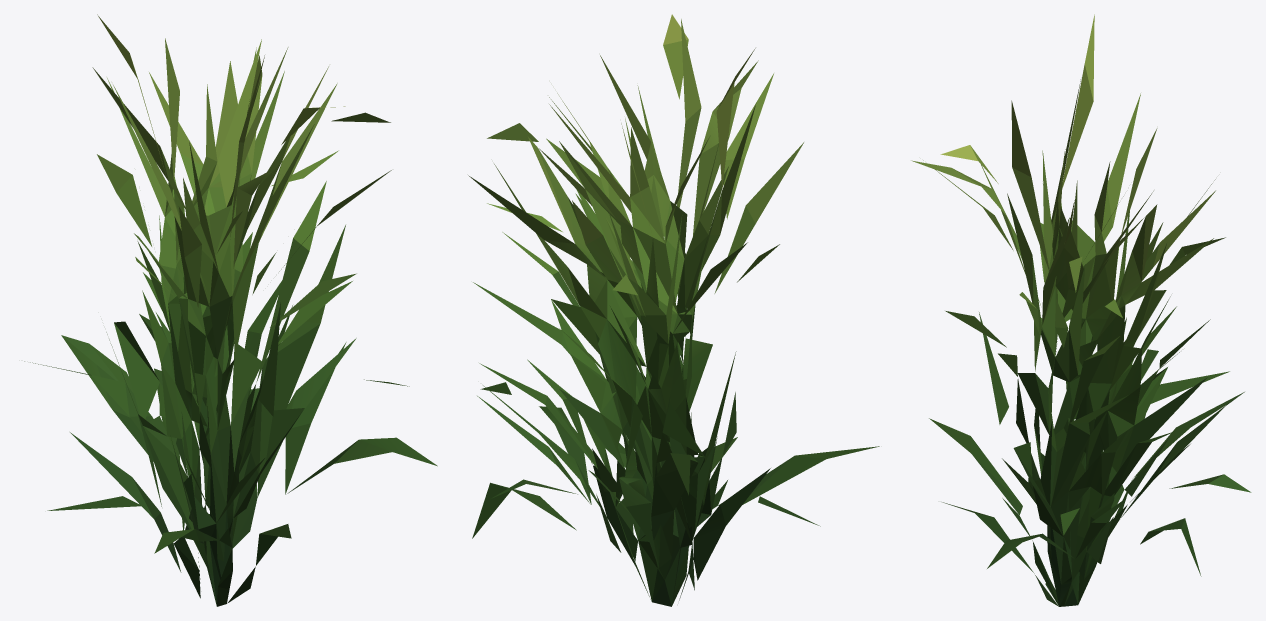
3 renders of one model, left to right at view 1: azimuth 30°, elevation 25°; view 2: azimuth 150°, elevation 25°; view 3: azimuth 270°, elevation 25°, orthographic. The views are drawn at different scales.
Parts seen in each view (by area): view 1: output_unwrapped; view 2: output_unwrapped; view 3: output_unwrapped.
Boxes of the visible parts, bbox=[...] form: output_unwrapped: bbox=[24, 14, 437, 606]; output_unwrapped: bbox=[468, 14, 879, 606]; output_unwrapped: bbox=[911, 14, 1251, 606].
Size of the model in its own units: 1.07 by 1.74 by 0.985.
